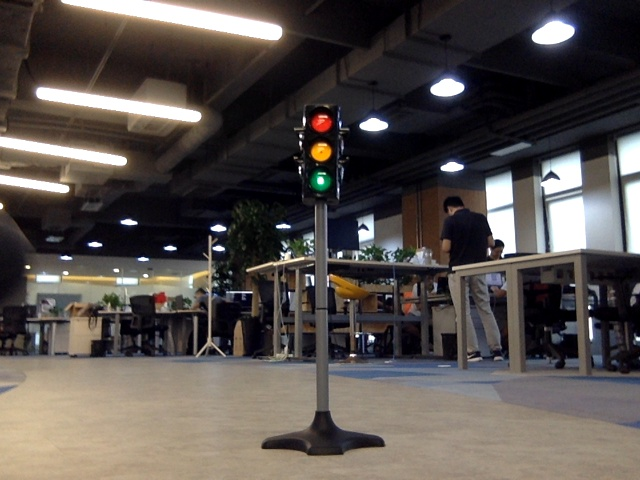green: (307, 109, 336, 196)
